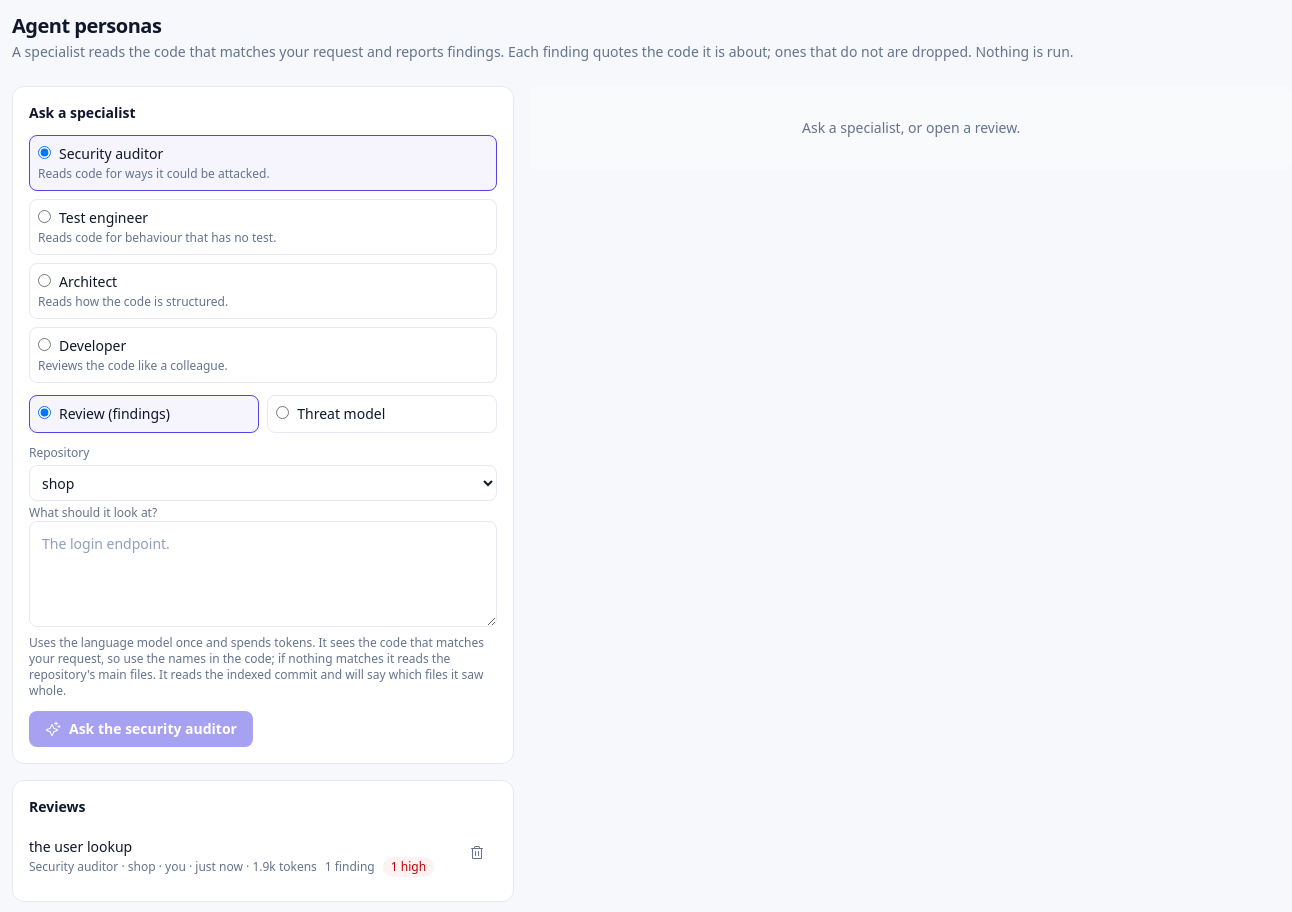
Test: Agent personas › offers each persona, only indexed code repositories, and sends the chosen persona with the request
Click the radio button labelled "Test engineer Reads code for behaviour that has no test." at (44, 216), box [38,210,51,223]
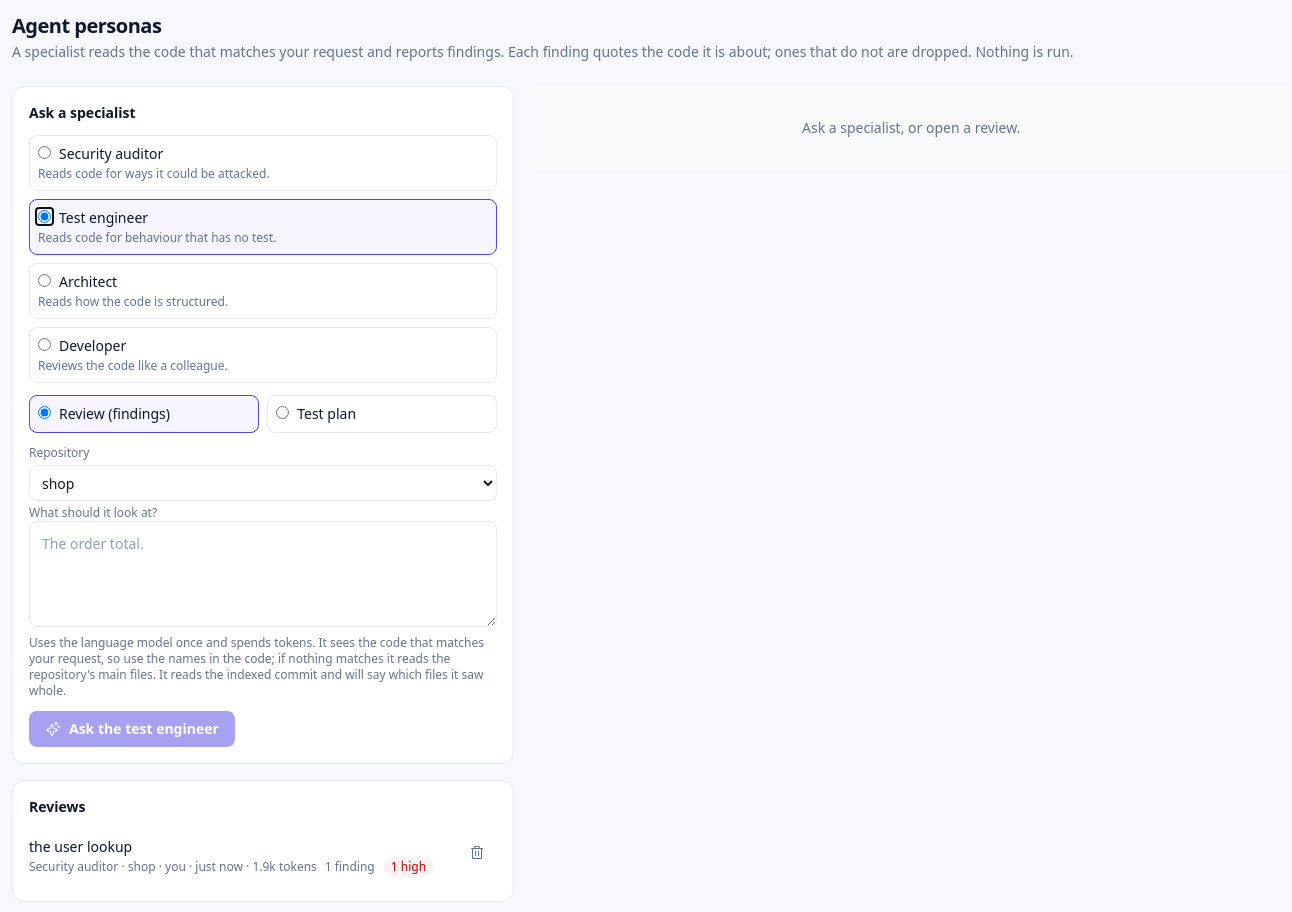
Expected: the button "Ask the test engineer" is disabled, [29,711,235,747]
Type "the order total" into the text box named "What should it look at?" at (263, 574), box [29,521,497,627]
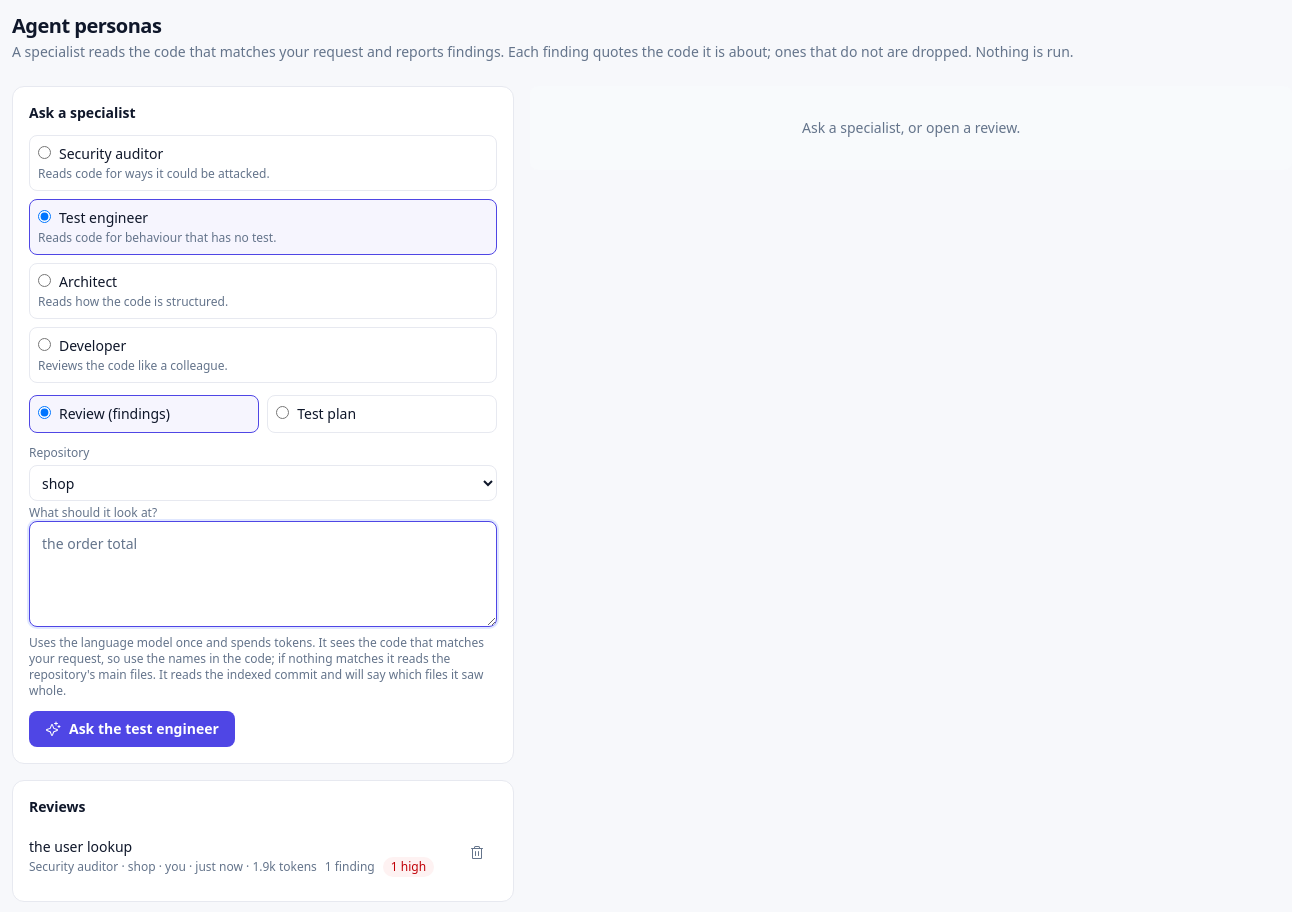
Click the button "Ask the test engineer" at (132, 729), box [29,711,235,747]
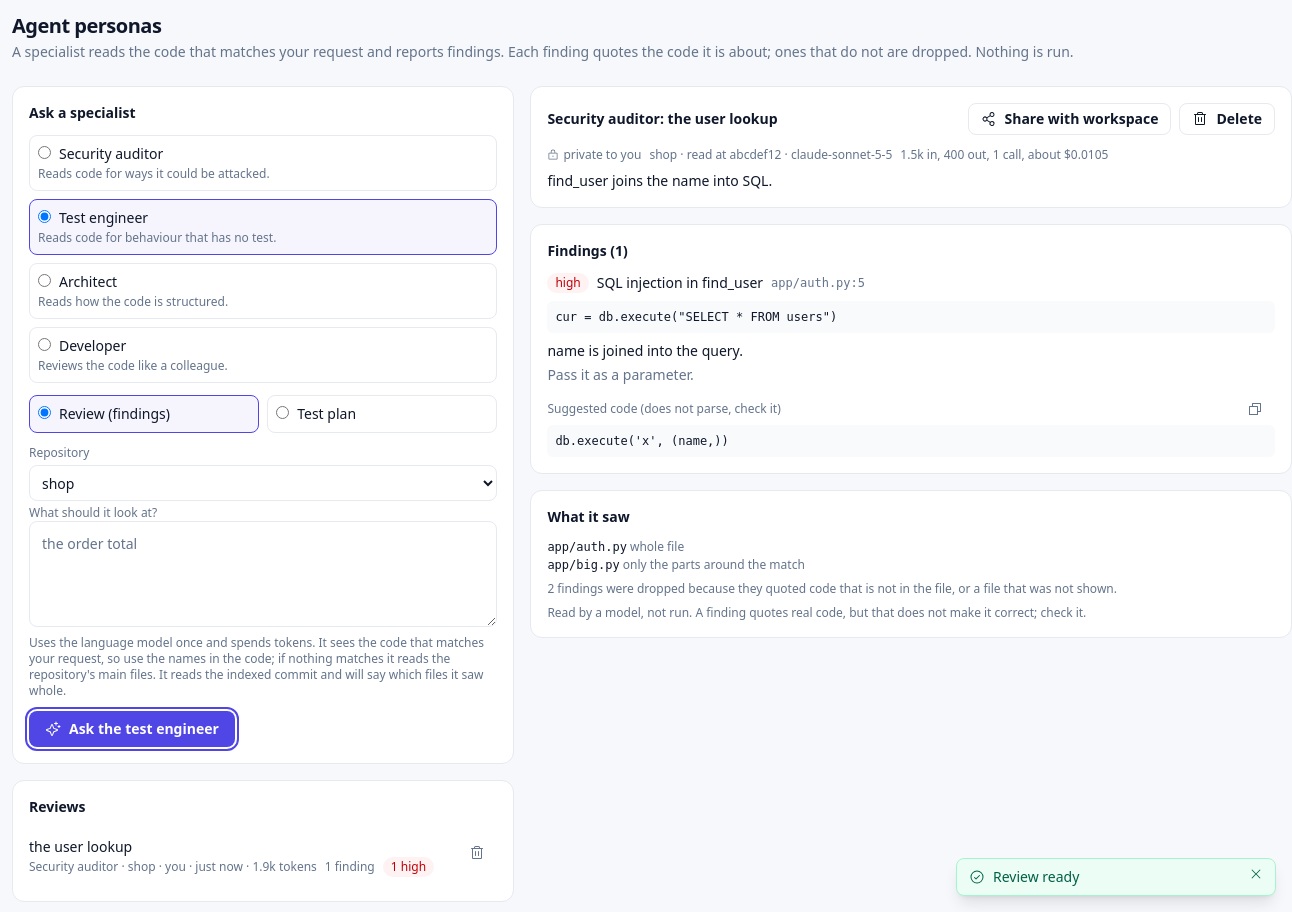
Now the text named "Tokens used" reads "1.5k in, 400 out, 1 call, about $0.0105", box [900,147,1108,163]
